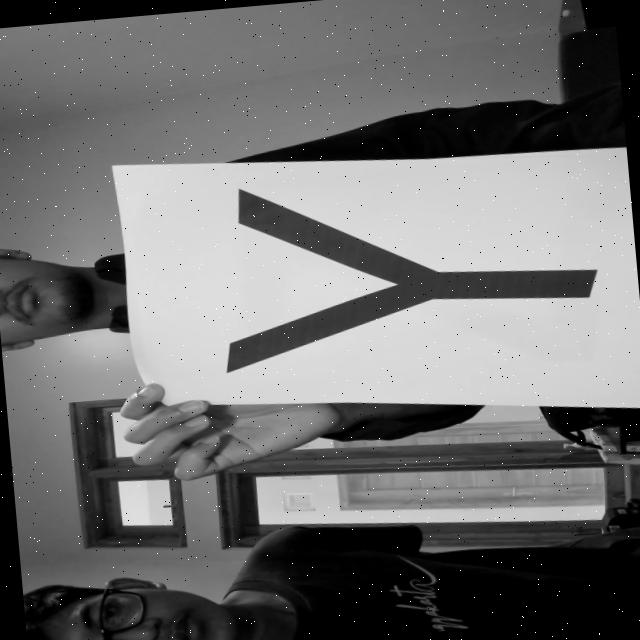y: (202, 143, 626, 384)
